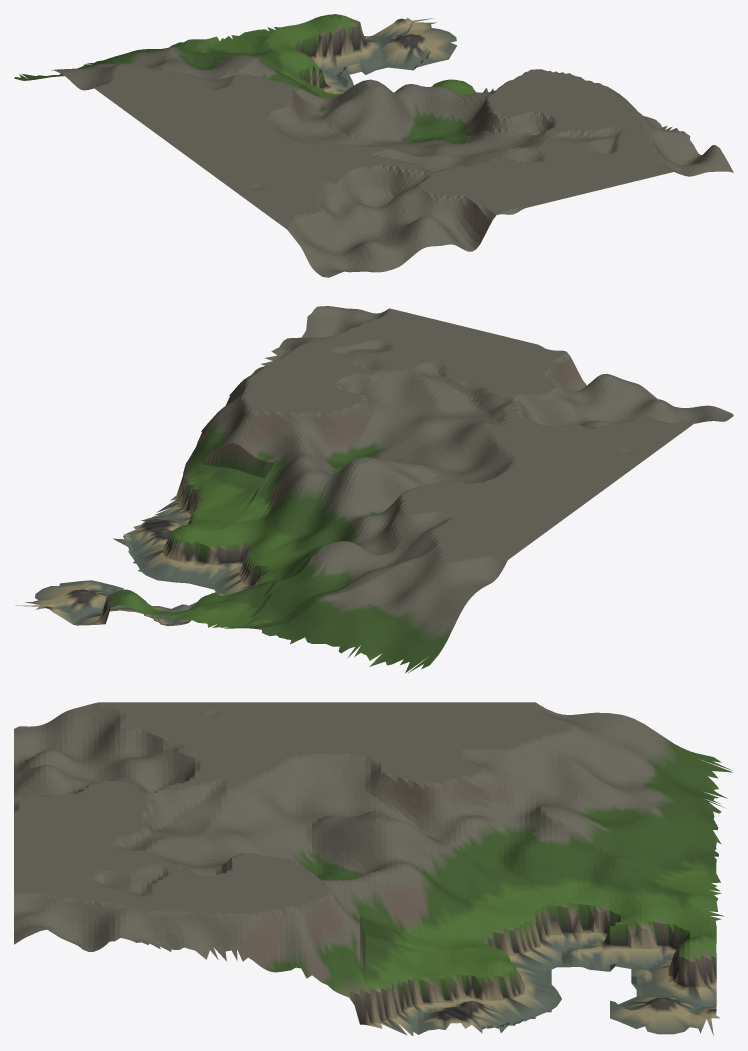
File: coast_tile_x0z3_lod1.glb
The picture shows the model from 3 angles, top to bottom: view 1: azimuth 30°, elevation 25°; view 2: azimuth 150°, elevation 25°; view 3: azimuth 270°, elevation 25°; orthographic projection. The views are drawn at different scales.
Visible parts, largest first — view 1: geometry_0; view 2: geometry_0; view 3: geometry_0.
Boxes of the visible parts, x1=… form: geometry_0: x1=14, y1=14, x2=733, y2=277; geometry_0: x1=15, y1=306, x2=733, y2=673; geometry_0: x1=14, y1=702, x2=733, y2=1035.
Size of the model in its own units: 618 by 134 by 812.
